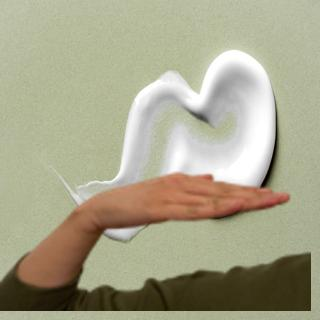WAIT: (91, 164, 296, 233)
